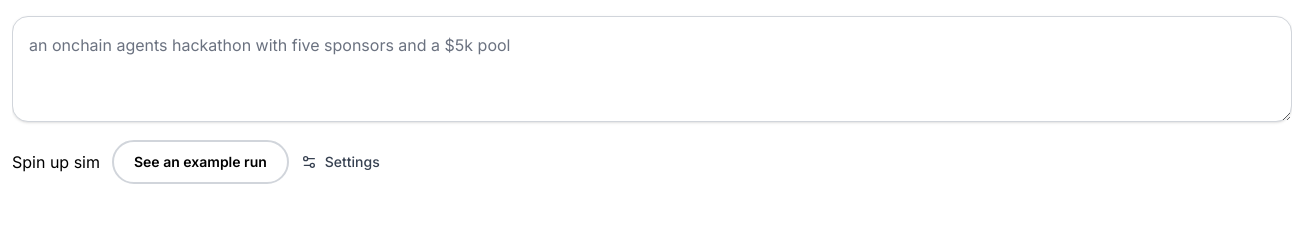
Test: HeroPrompt › self-managed POST (no onSubmit) › surfaces a non-2xx status with body excerpt
The image size is (1304, 229).
Replace the text in the text box named "Describe the hackathon you want" with "a tiny test sim". click: (652, 69)
box: [12,16,1292,122]
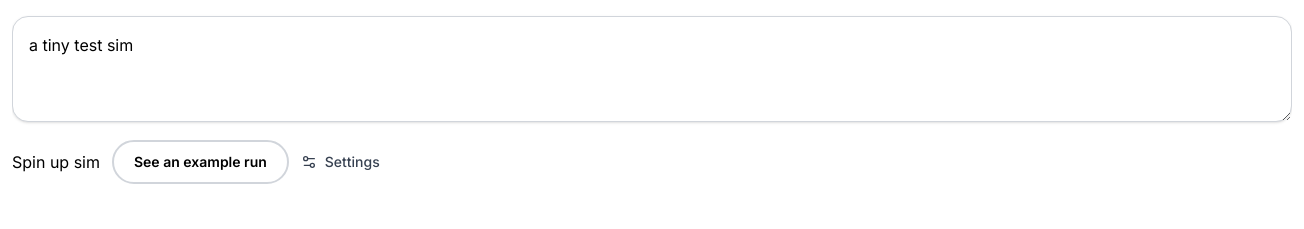
Click the button "Spin up sim". click: (56, 162)
box: [12,150,100,174]
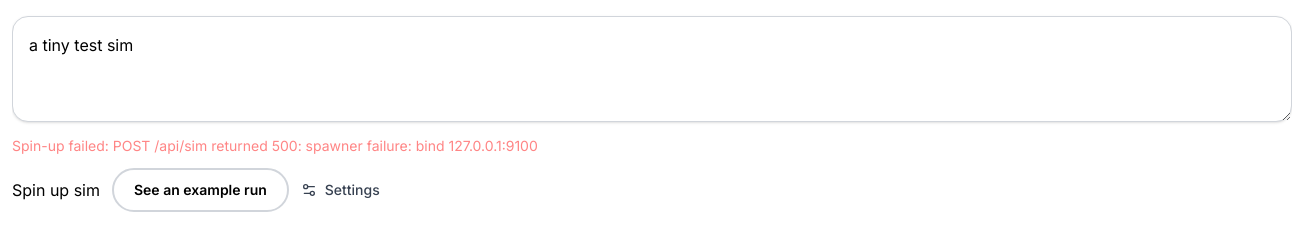
Check: the message shows "returned 500", box [12,137,538,154]
Check: the message shows "spawner failure: bind", box [12,137,538,154]
